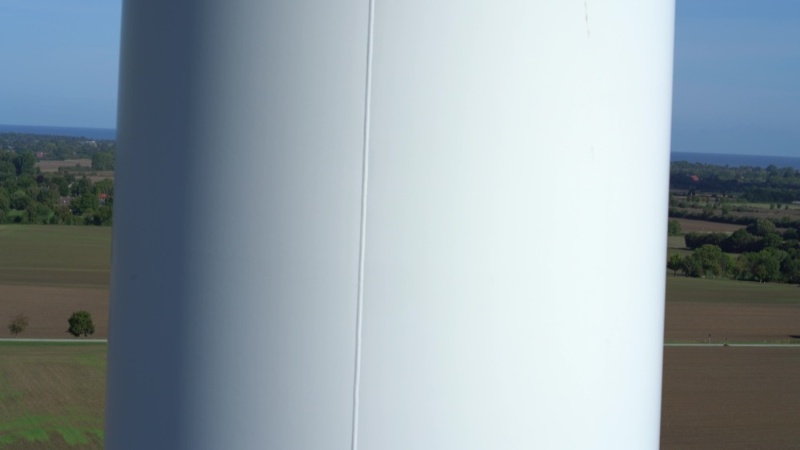weldseam: (346, 1, 380, 450)
